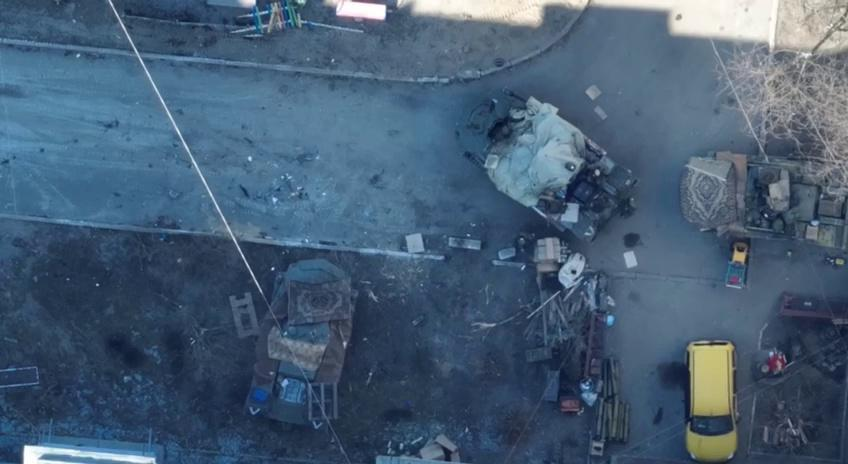car: (685, 338, 741, 464)
tank: (454, 86, 641, 245), (678, 146, 848, 269), (242, 256, 359, 433)
